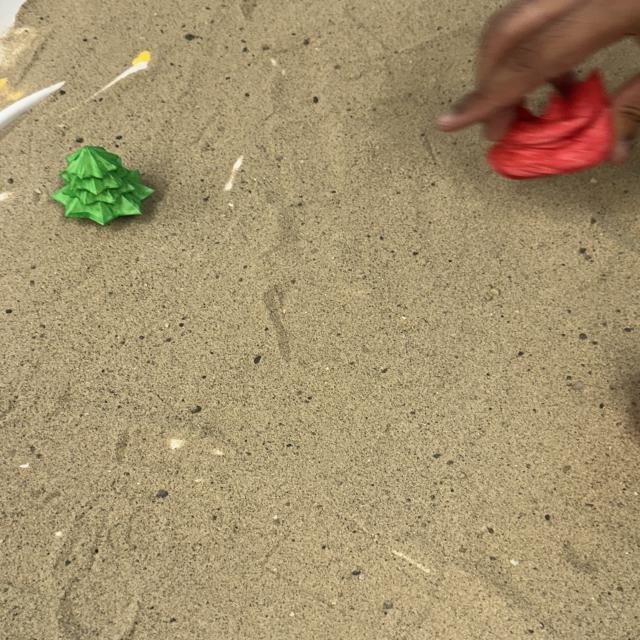fire: (484, 68, 616, 180)
tree: (49, 144, 155, 226)
